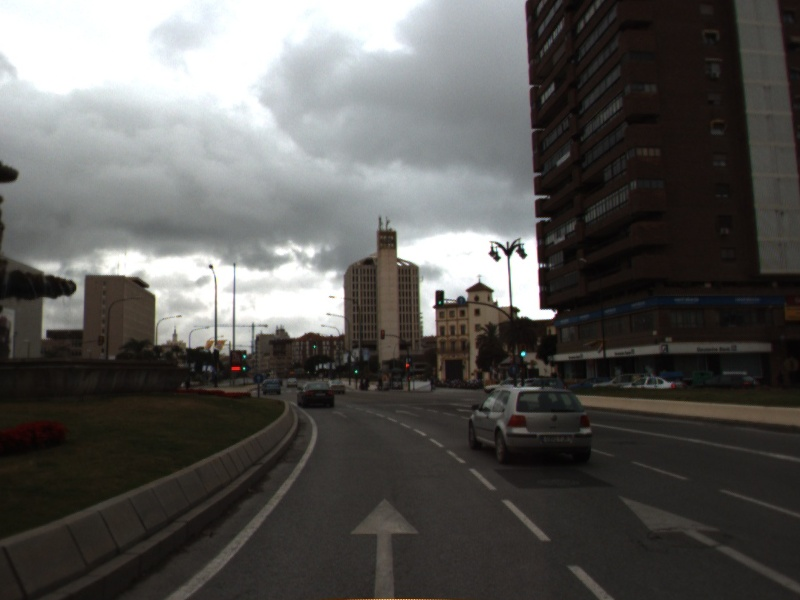STRAIGHT: (614, 491, 800, 593), (346, 493, 424, 600), (392, 407, 422, 419), (329, 408, 349, 420)
